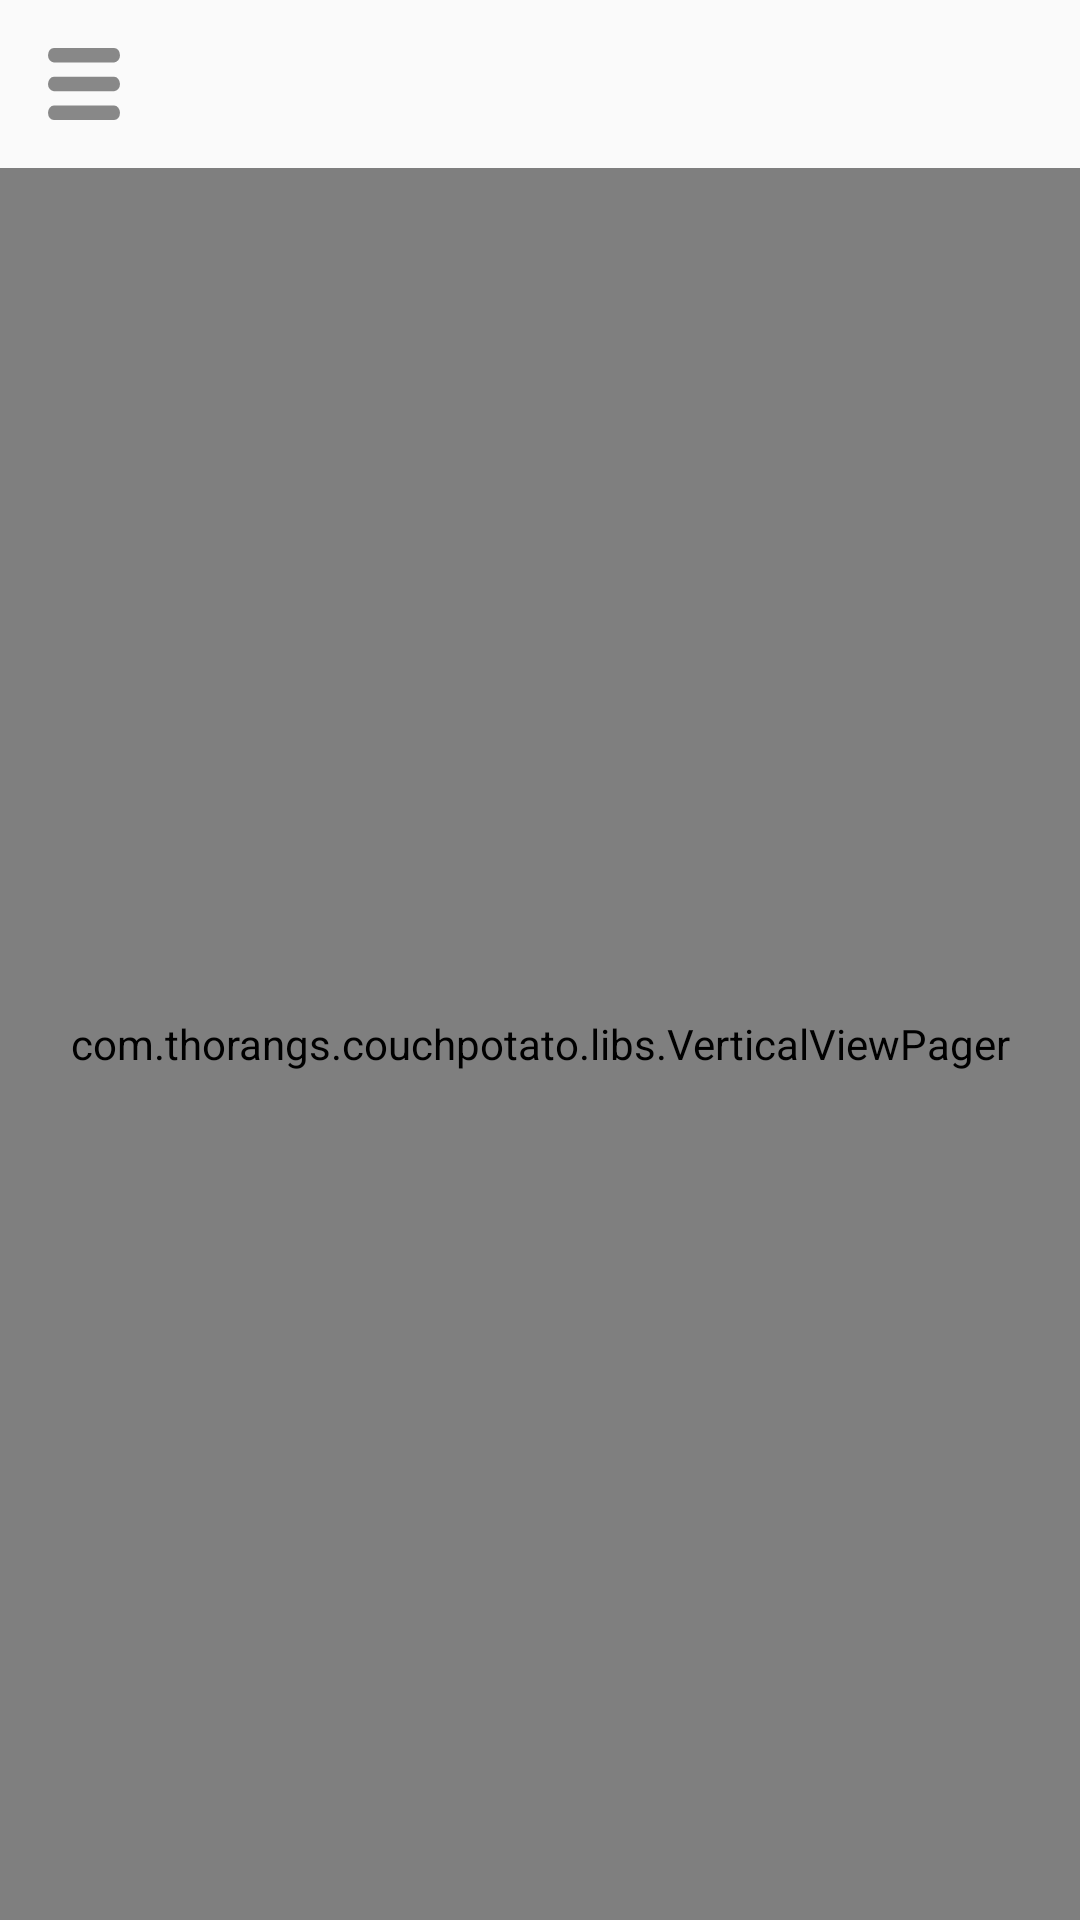

Point at icon controls on the screen. Image size 1080 x 1920, points as point (x, y).
hamburger: point (84, 84)
